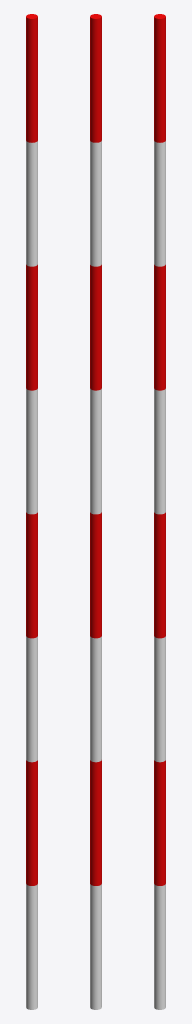
Rendered from flag.obj.
3 renders of one model, left to right at view 1: azimuth 90°, elevation 25°; view 2: azimuth 150°, elevation 25°; view 3: azimuth 270°, elevation 25°, orthographic.
Visible parts, largest first — view 1: flag1 polySurface2; view 2: flag1 polySurface2; view 3: flag1 polySurface2.
Boxes of the visible parts, box(x1,y1,x2,y2) form: flag1 polySurface2: box(26, 14, 37, 1009); flag1 polySurface2: box(90, 14, 101, 1009); flag1 polySurface2: box(154, 14, 165, 1009).
Size of the model in its own units: 0.0688 by 6.39 by 0.0688.
